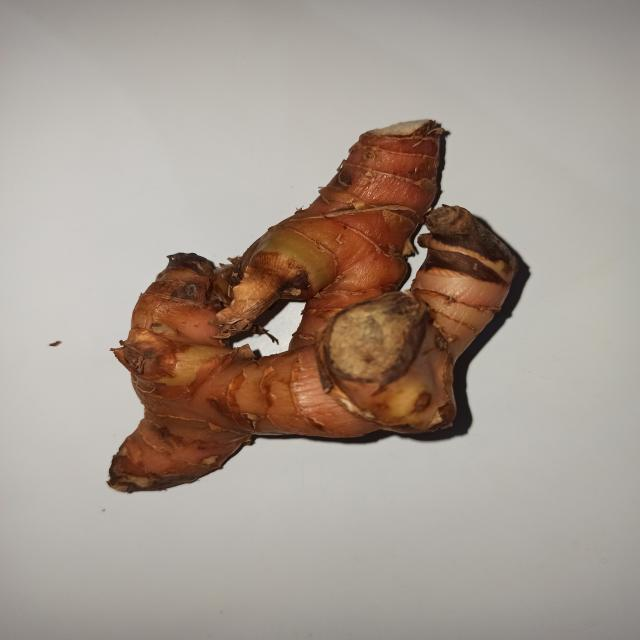ginger: (90, 117, 524, 460)
